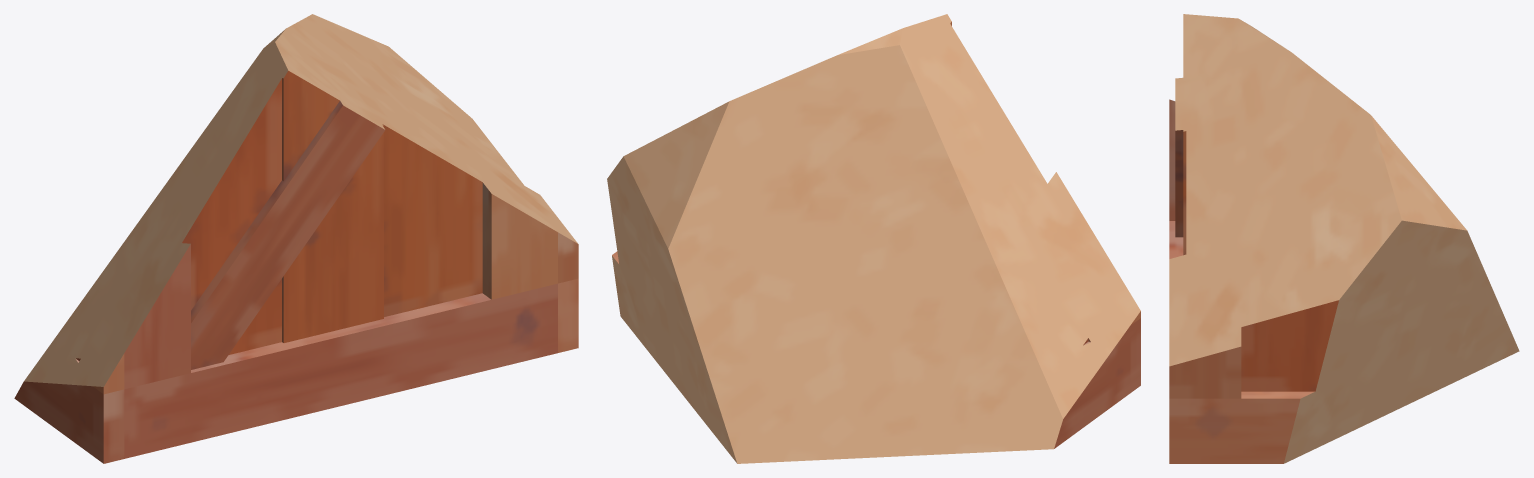
File: crate_s03.fbx
3 renders of one model, left to right at view 1: azimuth 30°, elevation 25°; view 2: azimuth 150°, elevation 25°; view 3: azimuth 270°, elevation 25°, orthographic. The views are drawn at different scales.
Parts seen in each view (by area): view 1: crate_s03; view 2: crate_s03; view 3: crate_s03.
Part boxes in pixels (bbox=[...]): crate_s03: bbox=[14, 14, 578, 463]; crate_s03: bbox=[607, 14, 1140, 463]; crate_s03: bbox=[1169, 14, 1519, 463].
Bounding box in the file's own units: 3 × 2.08 × 2.04.
